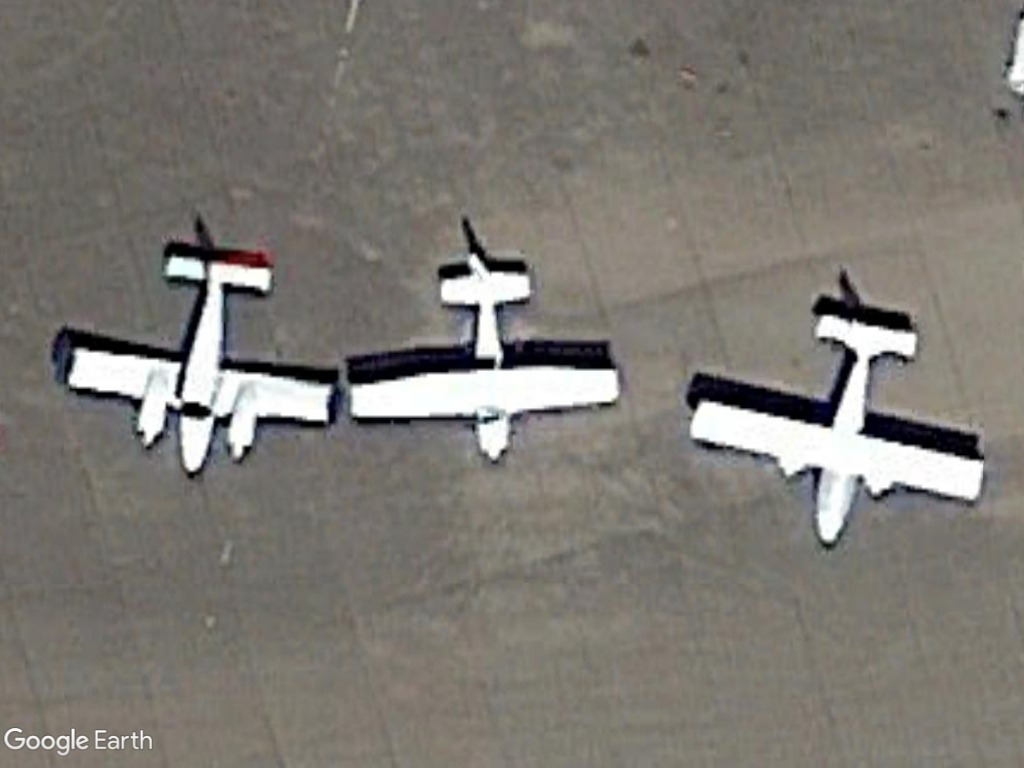propeller: (60, 238, 343, 474)
trainer: (677, 302, 999, 551), (337, 254, 630, 469)
